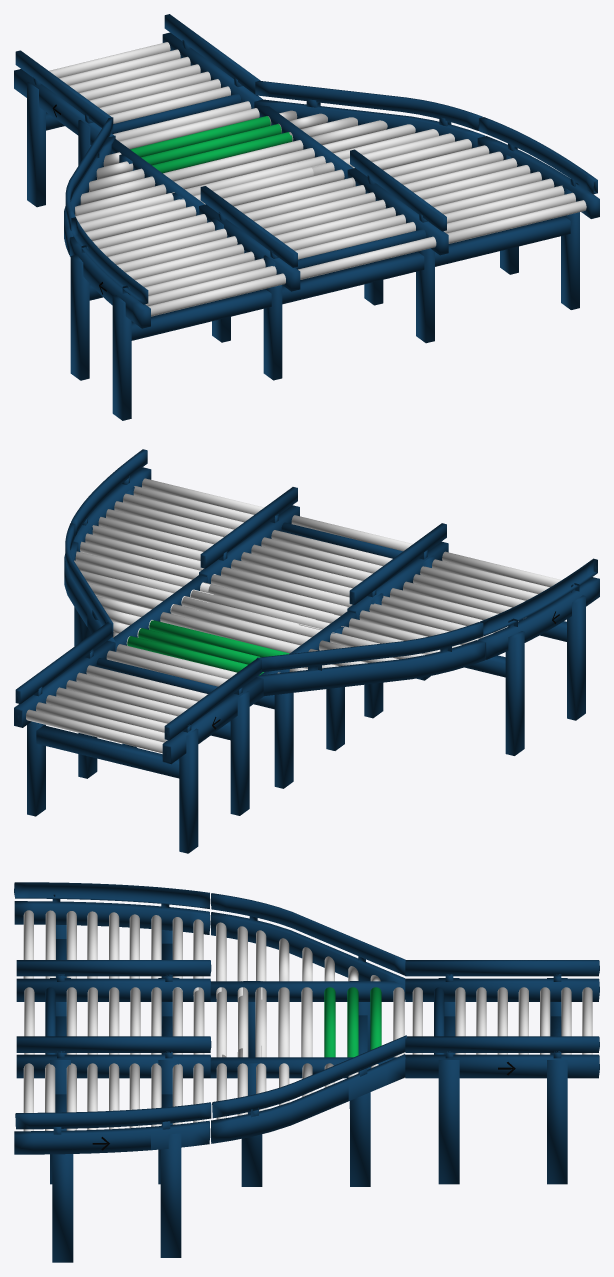
File: Union2.glb
The picture shows the model from 3 angles, top to bottom: view 1: azimuth 30°, elevation 25°; view 2: azimuth 150°, elevation 25°; view 3: azimuth 270°, elevation 25°; orthographic projection. The views are drawn at different scales.
Visible parts, largest first — view 1: Belt.116, Belt.156, Belt.134, Belt.145, Belt.138, Belt.144, Belt.143, Belt.137, Belt.160, Belt.162, Belt.125, Belt.127 (+37 smaller); view 2: Belt.116, Belt.134, Belt.156, Belt.143, Belt.144, Belt.161, Belt.122, Belt.118, Belt.121, Belt.124, Belt.123, Belt.142 (+31 smaller); view 3: Belt.116, Belt.156, Belt.134, Belt.140, Belt.136, Belt.137, Belt.151, Belt.117, Belt.130, Belt.118, Belt.122, Belt.124 (+23 smaller).
Boxes of the visible parts, x1,y1,x2,y2 form: Belt.116: (14, 14, 448, 380); Belt.156: (254, 80, 599, 218); Belt.134: (64, 117, 150, 328); Belt.145: (131, 289, 271, 340); Belt.138: (417, 216, 570, 266); Belt.144: (112, 295, 131, 420); Belt.143: (70, 254, 89, 380); Belt.137: (561, 185, 579, 309); Belt.160: (446, 200, 586, 243); Belt.162: (148, 273, 285, 316); Belt.125: (141, 124, 281, 165); Belt.127: (119, 108, 259, 149); Belt.116: (14, 487, 448, 853); Belt.134: (256, 558, 599, 695); Belt.156: (64, 449, 151, 651); Belt.143: (505, 631, 524, 755); Belt.144: (567, 595, 585, 720); Belt.161: (274, 669, 293, 788); Belt.122: (171, 604, 311, 645); Belt.118: (160, 612, 300, 653); Belt.121: (182, 596, 322, 637); Belt.124: (149, 620, 289, 657); Belt.123: (80, 541, 215, 579); Belt.142: (203, 582, 340, 622); Belt.116: (16, 960, 599, 1184); Belt.156: (14, 1035, 406, 1154); Belt.134: (14, 882, 405, 1001); Belt.140: (210, 981, 404, 1001); Belt.136: (160, 1133, 181, 1257); Belt.137: (52, 1154, 73, 1262); Belt.151: (350, 1067, 370, 1186); Belt.117: (210, 1057, 396, 1078); Belt.130: (241, 1063, 262, 1186); Belt.118: (301, 987, 312, 1057); Belt.122: (278, 987, 289, 1057); Belt.124: (324, 987, 335, 1057).
Size of the model in its own units: 22.98 by 6.73 by 24.11.
